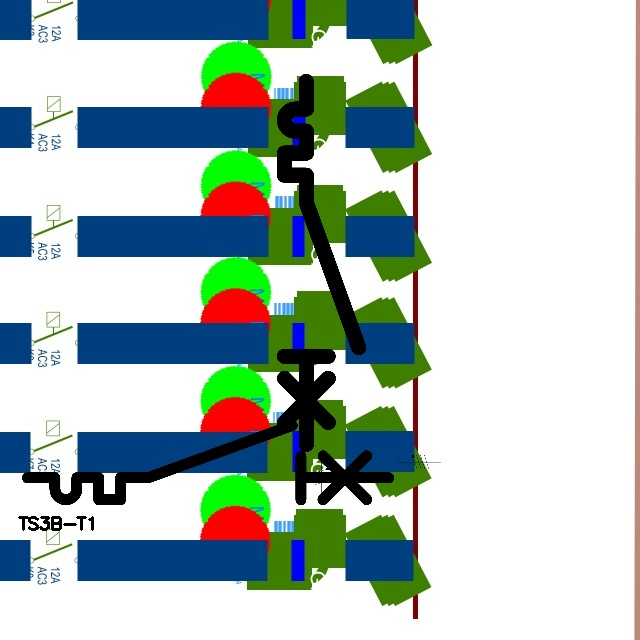interruptor_termomagnetico: (275, 72, 368, 454), (18, 416, 398, 509)
